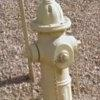a fire hydrant: (24, 0, 80, 100)
